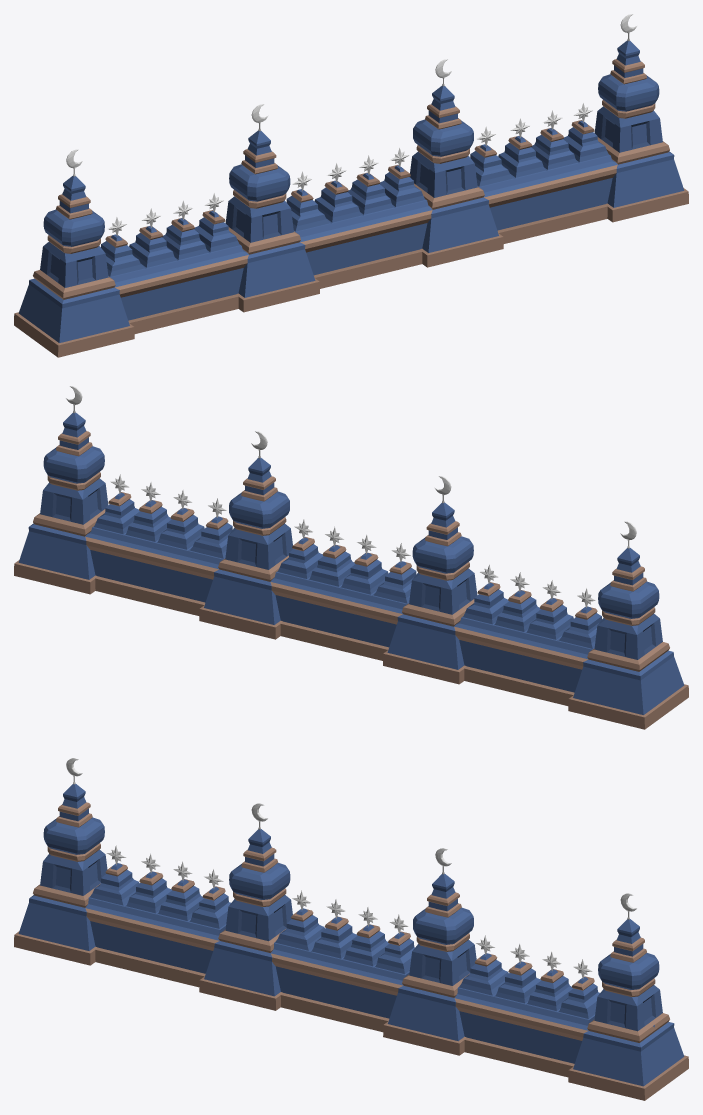
The model's file is Muur.fbx.
3 renders of one model, top to bottom at view 1: azimuth 30°, elevation 25°; view 2: azimuth 150°, elevation 25°; view 3: azimuth 330°, elevation 25°, orthographic.
Visible parts, largest first — view 1: pCube11, pCube12, pCube9, pCube2, pCube6, pCube14, pCube8; view 2: pCube11, pCube12, pCube9, pCube2, pCube6, pCube14, pCube8; view 3: pCube12, pCube9, pCube14, pCube2, pCube6, pCube11, pCube8.
Part boxes in pixels (<box>): pCube11: <box>14,176,134,357</box>; pCube12: <box>101,210,248,333</box>; pCube9: <box>470,120,617,243</box>; pCube2: <box>286,165,432,288</box>; pCube6: <box>225,130,319,312</box>; pCube14: <box>594,40,688,222</box>; pCube8: <box>410,86,503,267</box>; pCube11: <box>568,548,688,729</box>; pCube12: <box>454,582,601,705</box>; pCube9: <box>85,492,232,615</box>; pCube2: <box>270,537,416,660</box>; pCube6: <box>383,502,477,684</box>; pCube14: <box>14,412,108,594</box>; pCube8: <box>199,458,292,639</box>; pCube12: <box>85,863,230,987</box>; pCube9: <box>454,953,599,1077</box>; pCube14: <box>568,919,688,1100</box>; pCube2: <box>271,908,414,1032</box>; pCube6: <box>199,829,292,1010</box>; pCube11: <box>14,784,107,965</box>; pCube8: <box>383,874,476,1055</box>.
Bounding box in the file's own units: 132 × 36.35 × 15.96.
